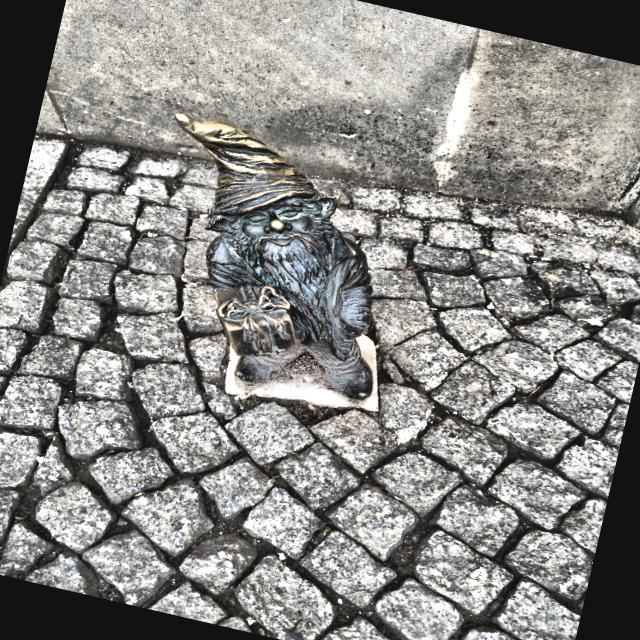Suvenirek: (175, 113, 373, 400)
